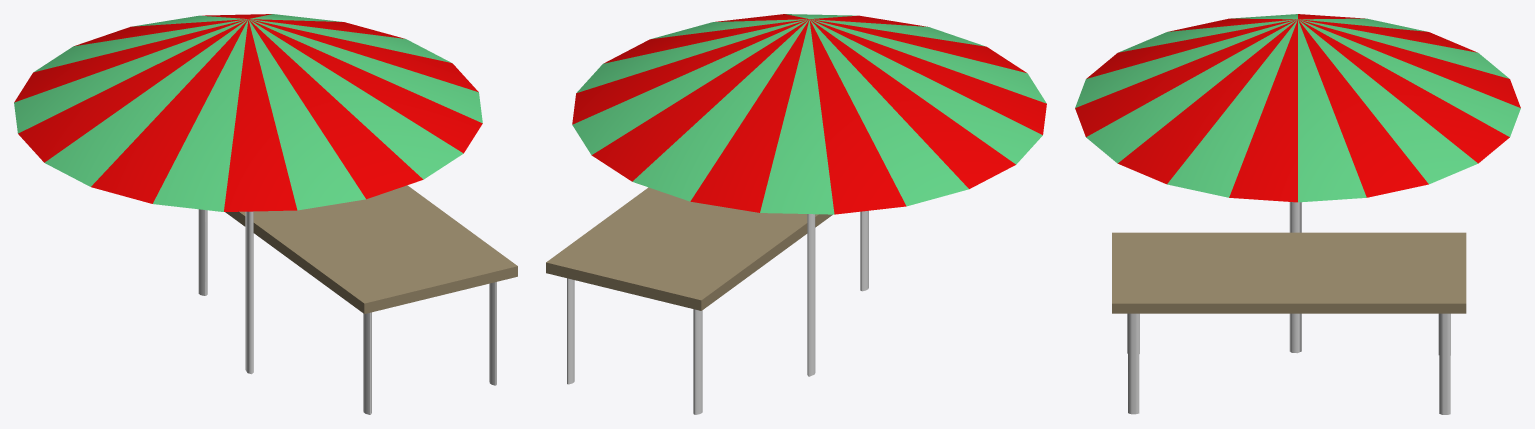
Rendered from shopun.fbx.
The picture shows the model from 3 angles, left to right: view 1: azimuth 30°, elevation 25°; view 2: azimuth 150°, elevation 25°; view 3: azimuth 270°, elevation 25°; orthographic projection. The views are drawn at different scales.
Parts seen in each view (by area): view 1: pCube2; view 2: pCube2; view 3: pCube2.
Part boxes in pixels (x1,y1,x2,y2): pCube2: (14, 14, 517, 414); pCube2: (546, 14, 1046, 414); pCube2: (1075, 14, 1520, 414).
Size of the model in its own units: 1.52 by 1.25 by 1.52.
